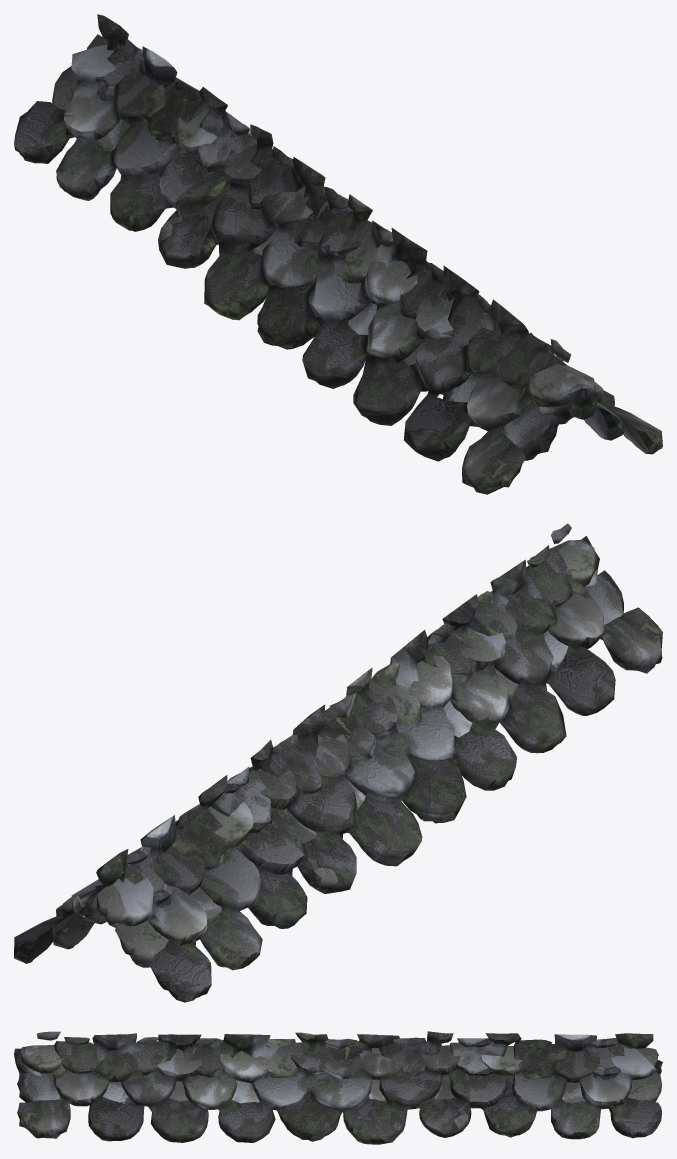
The model's file is SM_Roof_Cap_01.fbx.
3 views of the same model, one above another, from view 1: azimuth 30°, elevation 25°; view 2: azimuth 150°, elevation 25°; view 3: azimuth 270°, elevation 25° (orthographic). The views are drawn at different scales.
Visible parts, largest first — view 1: SM_Roof_Cap_01_LOD0; view 2: SM_Roof_Cap_01_LOD0; view 3: SM_Roof_Cap_01_LOD0.
Part boxes in pixels (x1,y1,x2,y2): SM_Roof_Cap_01_LOD0: [14, 14, 662, 494]; SM_Roof_Cap_01_LOD0: [14, 523, 662, 1002]; SM_Roof_Cap_01_LOD0: [14, 1031, 662, 1144].
Bounding box in the file's own units: 95 × 395 × 57.58.
